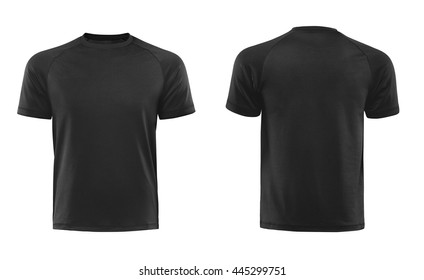round-necked tshirt: (17, 32, 195, 229), (225, 26, 392, 233)
